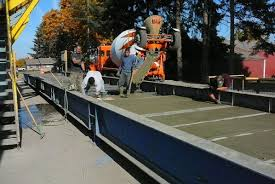Industrial Scale: (22, 72, 275, 181)
